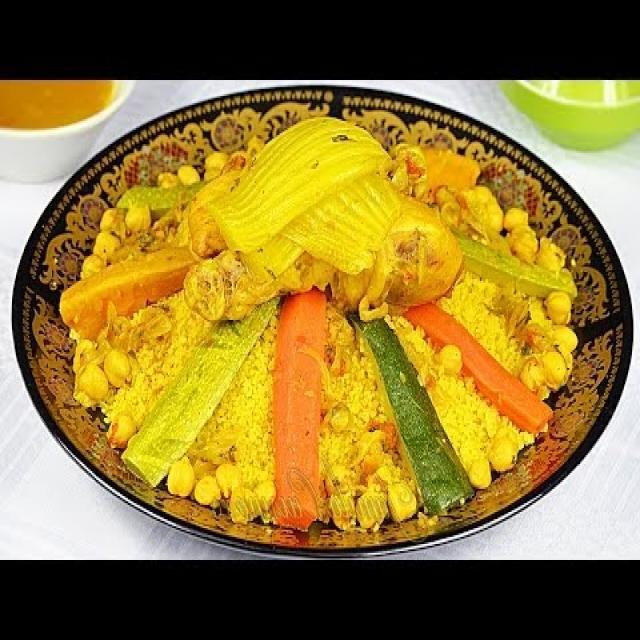Couscous: (9, 85, 628, 551)
